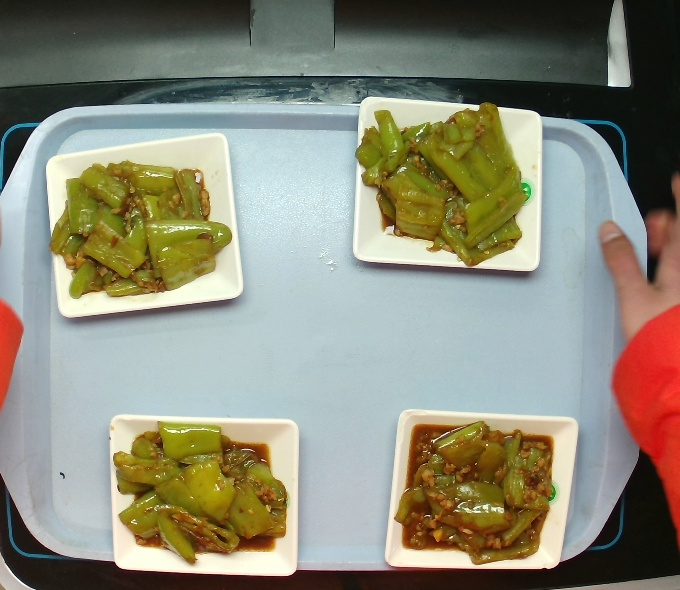wcq-RouMoQingJiao: (353, 77, 537, 277), (55, 152, 226, 307), (115, 415, 283, 566), (397, 417, 552, 568)
